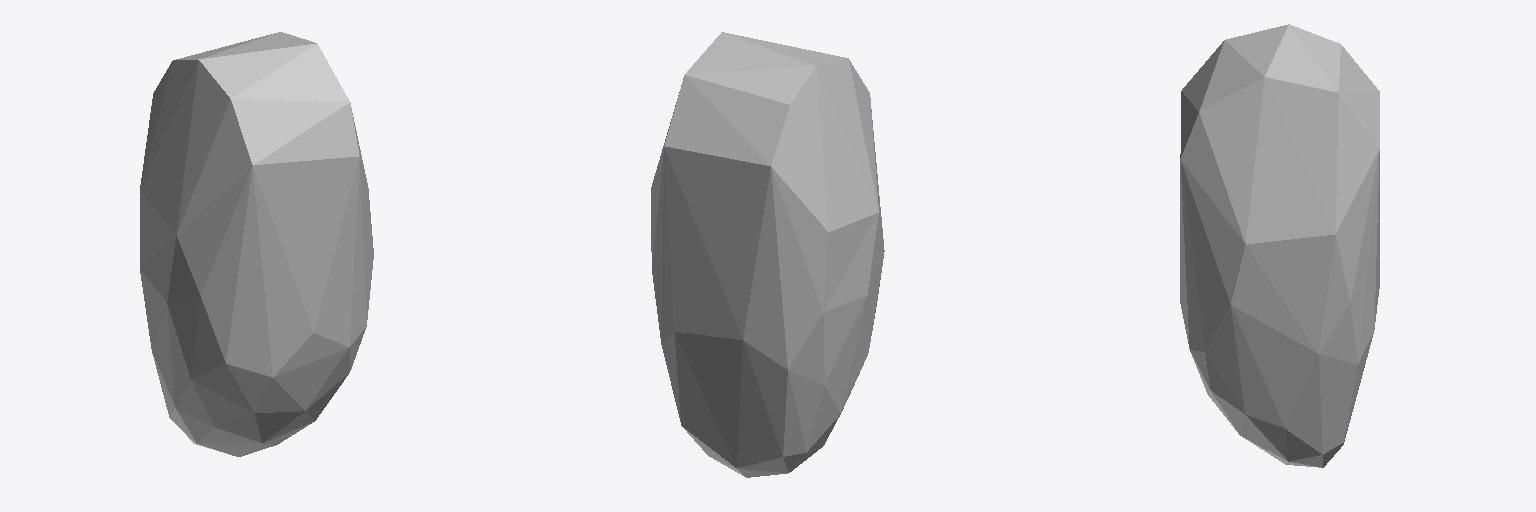
File: middle_dist_col.obj
3 views of the same model, side by side, from view 1: azimuth 30°, elevation 25°; view 2: azimuth 150°, elevation 25°; view 3: azimuth 270°, elevation 25° (orthographic).
Size of the model in its own units: 0.0187 by 0.0387 by 0.017.